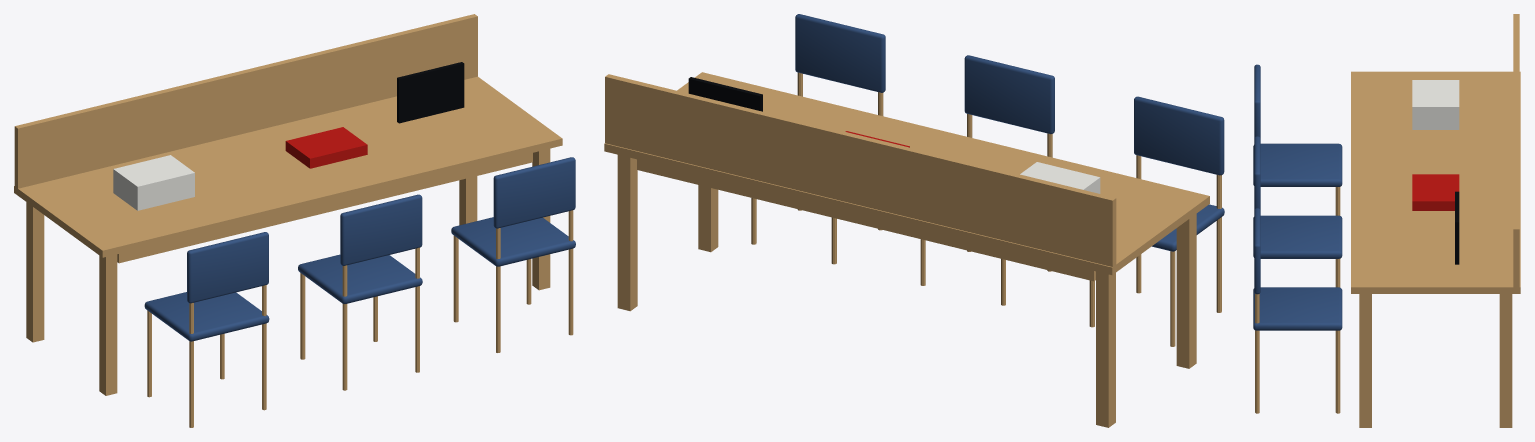
Rendered from justice.court.counsel_table.glb.
3 views of the same model, side by side, from view 1: azimuth 30°, elevation 25°; view 2: azimuth 150°, elevation 25°; view 3: azimuth 270°, elevation 25° (orthographic). The views are drawn at different scales.
Parts seen in each view (by area): view 1: main__glulam, chairs__fabric_blue, chairs__glulam, main__paint_white, main__screen, main__plastic_red; view 2: main__glulam, chairs__fabric_blue, chairs__glulam, main__screen, main__paint_white; view 3: main__glulam, chairs__fabric_blue, main__paint_white, main__plastic_red, chairs__glulam, main__screen.
Boxes of the visible parts, <box> form: main__glulam: <box>14,14,562,395</box>; chairs__fabric_blue: <box>144,157,575,341</box>; chairs__glulam: <box>147,210,573,427</box>; main__paint_white: <box>113,155,194,210</box>; main__screen: <box>397,62,464,123</box>; main__plastic_red: <box>285,127,367,168</box>; main__glulam: <box>604,72,1209,427</box>; chairs__fabric_blue: <box>795,14,1224,251</box>; chairs__glulam: <box>751,72,1221,346</box>; main__screen: <box>688,77,762,111</box>; main__paint_white: <box>1020,162,1100,193</box>; main__glulam: <box>1351,14,1520,427</box>; chairs__fabric_blue: <box>1253,64,1342,330</box>; main__paint_white: <box>1412,80,1459,129</box>; main__plastic_red: <box>1412,174,1459,210</box>; chairs__glulam: <box>1255,187,1340,413</box>; main__screen: <box>1455,191,1459,264</box>.
Bounding box in the file's own units: 2.4 × 1.05 × 1.26.
